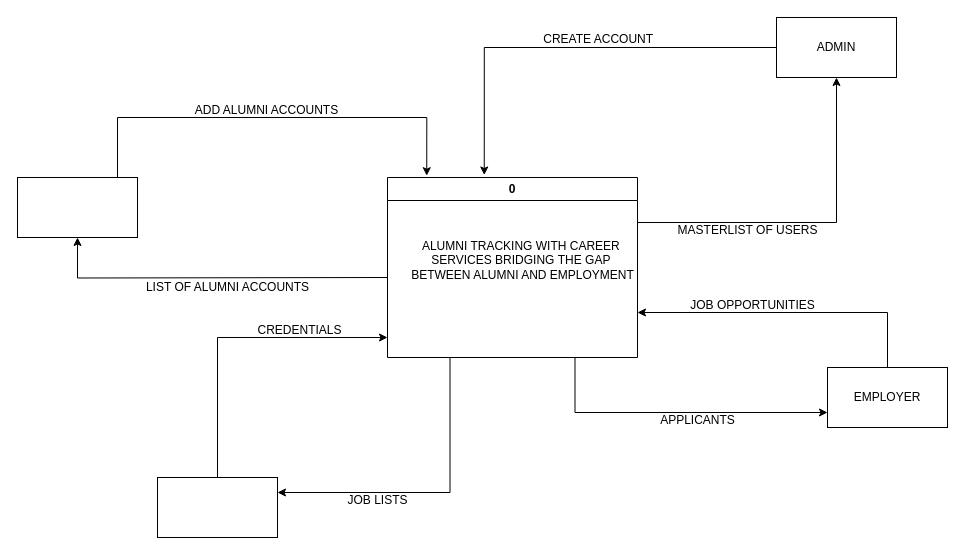
Some shapes in this 965 by 555 pixel diagram are drawn without their labels. Here are the shapes that lost their labels. From the top down, the centre of each, then its label:
the point at 77,207: REGISTRAR
the point at 217,507: ALUMNI
